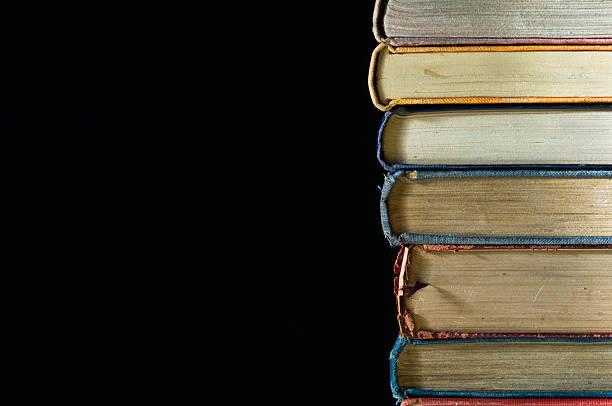paper: (390, 245, 612, 339), (374, 169, 612, 241), (362, 42, 612, 107), (368, 109, 612, 170), (384, 337, 612, 395), (367, 0, 612, 45)
